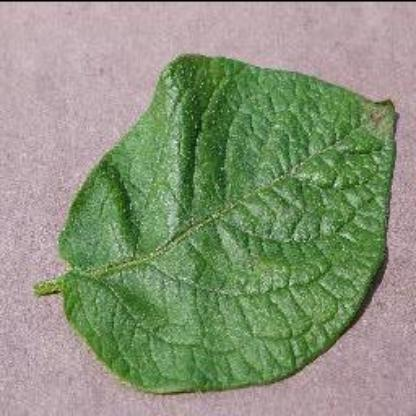Healthy-plant: (36, 55, 412, 402)
